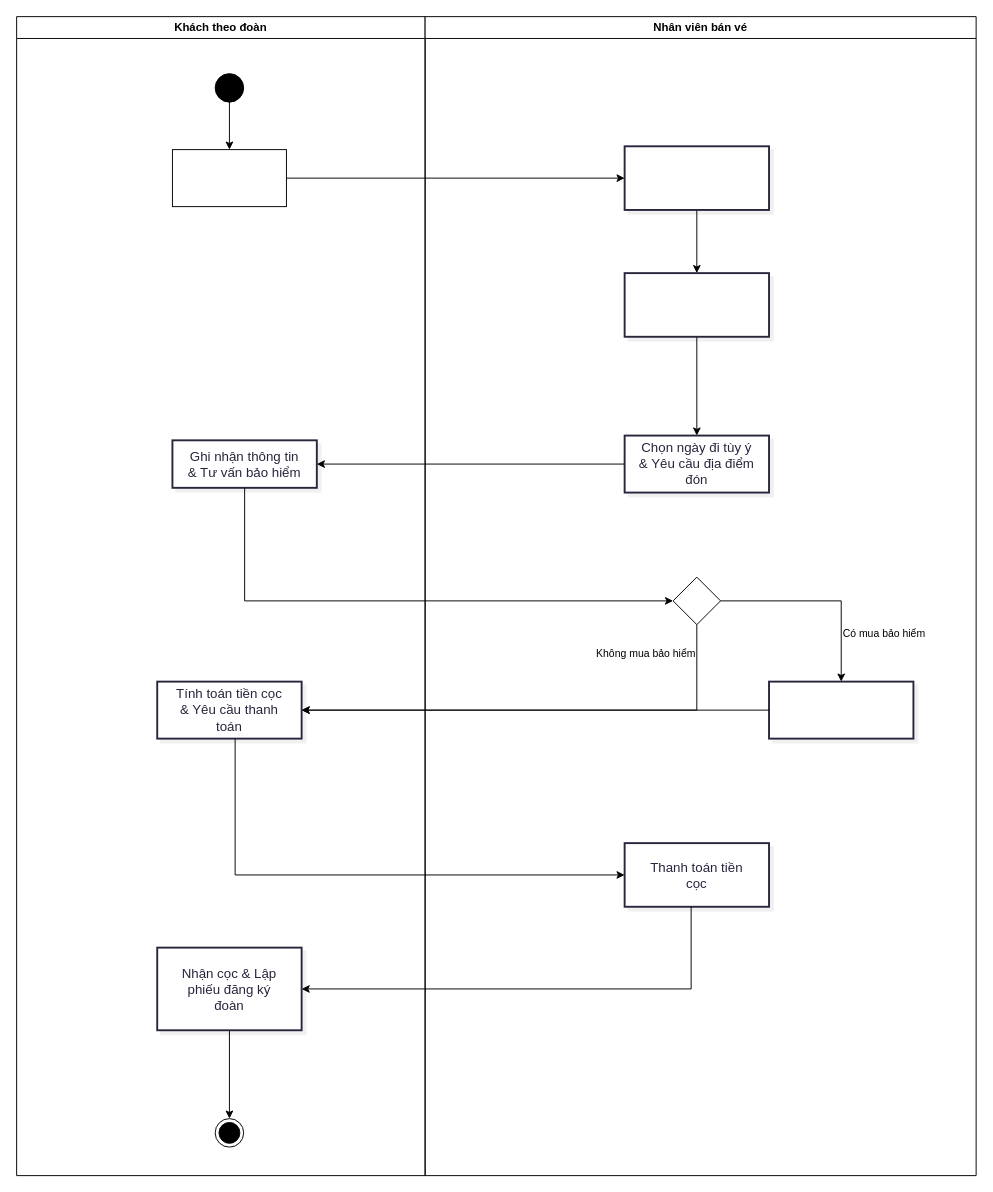
This 993x1192 diagram has some shape labels left out. Here are the shapes that lost their labels. From the top down, the centre of each, then its label:
(228,178): Yêu cầu đăng ký tour theo đoàn
(698,179): Tiếp nhận yêu cầu
(698,306): Cung cấp thông tin: cơ quan, người đại diện, số người...
(843,711): Cung cấp danh sách chi tiết người cùng đi
